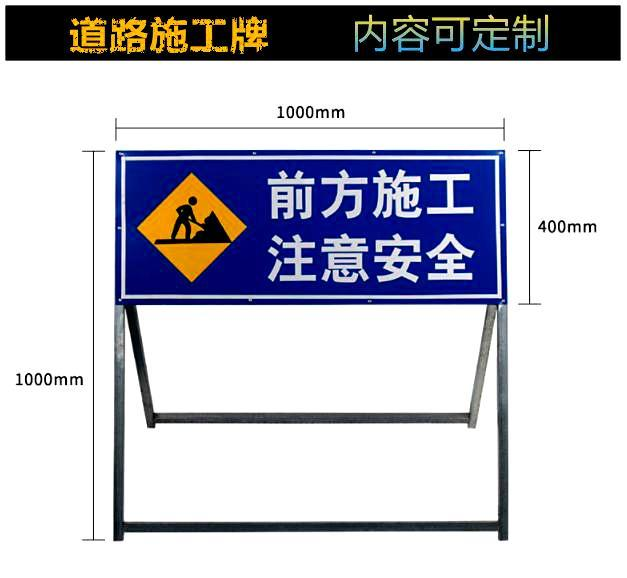sign: (117, 151, 509, 302)
